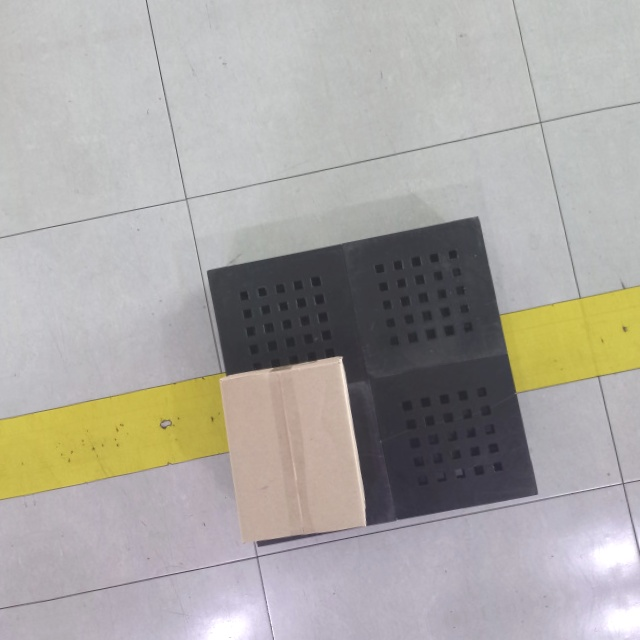box: (217, 351, 369, 548)
pallet: (191, 210, 551, 556)
